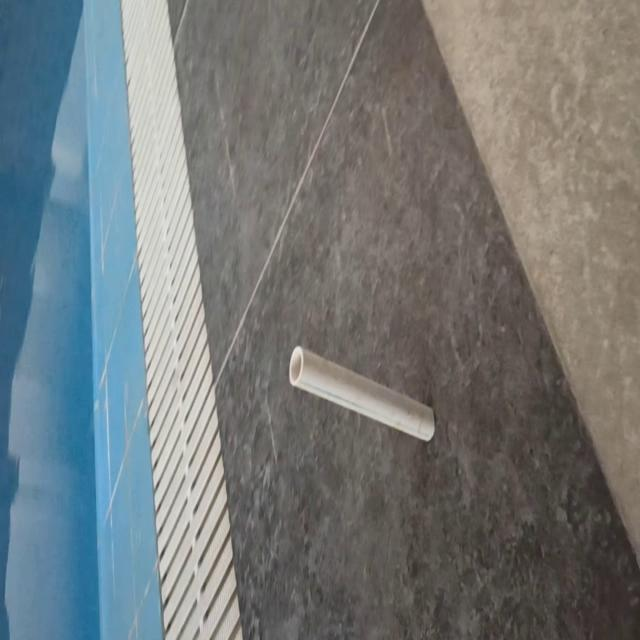Cube: (288, 343, 436, 444)
